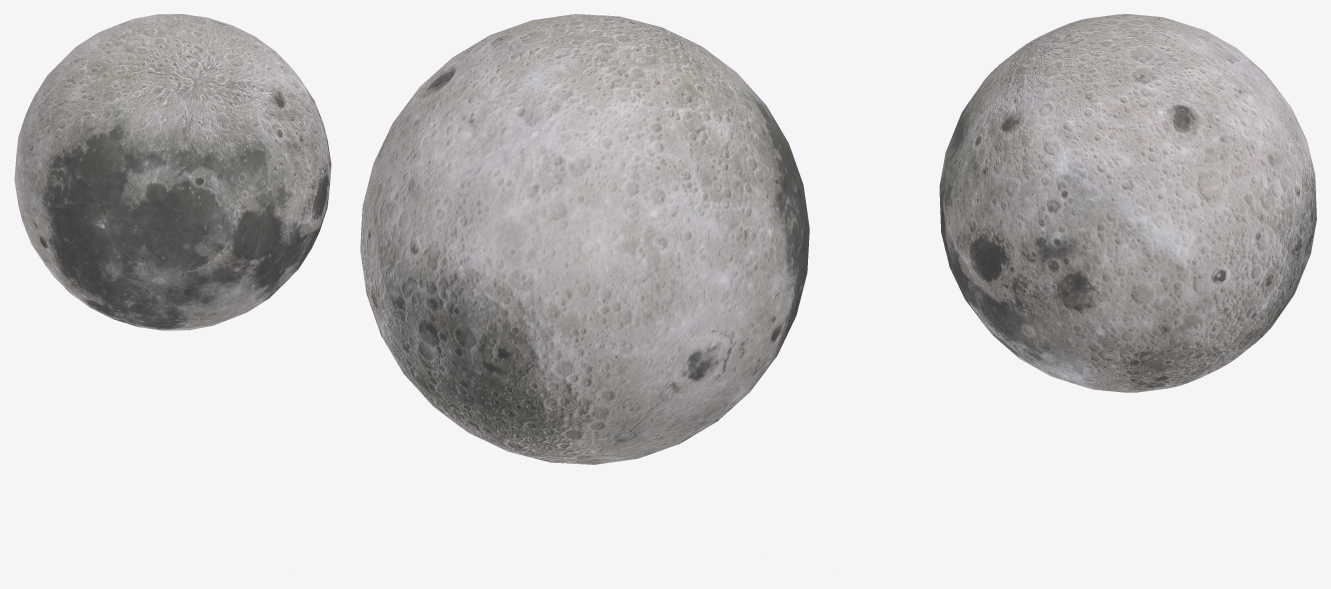
Rendered from moon.glb.
3 views of the same model, side by side, from view 1: azimuth 30°, elevation 25°; view 2: azimuth 150°, elevation 25°; view 3: azimuth 270°, elevation 25° (orthographic). The views are drawn at different scales.
Visible parts, largest first — view 1: moon11; view 2: moon11; view 3: moon11.
Boxes of the visible parts, <box> form: moon11: <box>14,14,331,330</box>; moon11: <box>360,14,809,559</box>; moon11: <box>939,14,1316,392</box>.
Size of the model in its own units: 2.09 by 3.33 by 2.65.
Materials: 1 (1 with a texture image).
